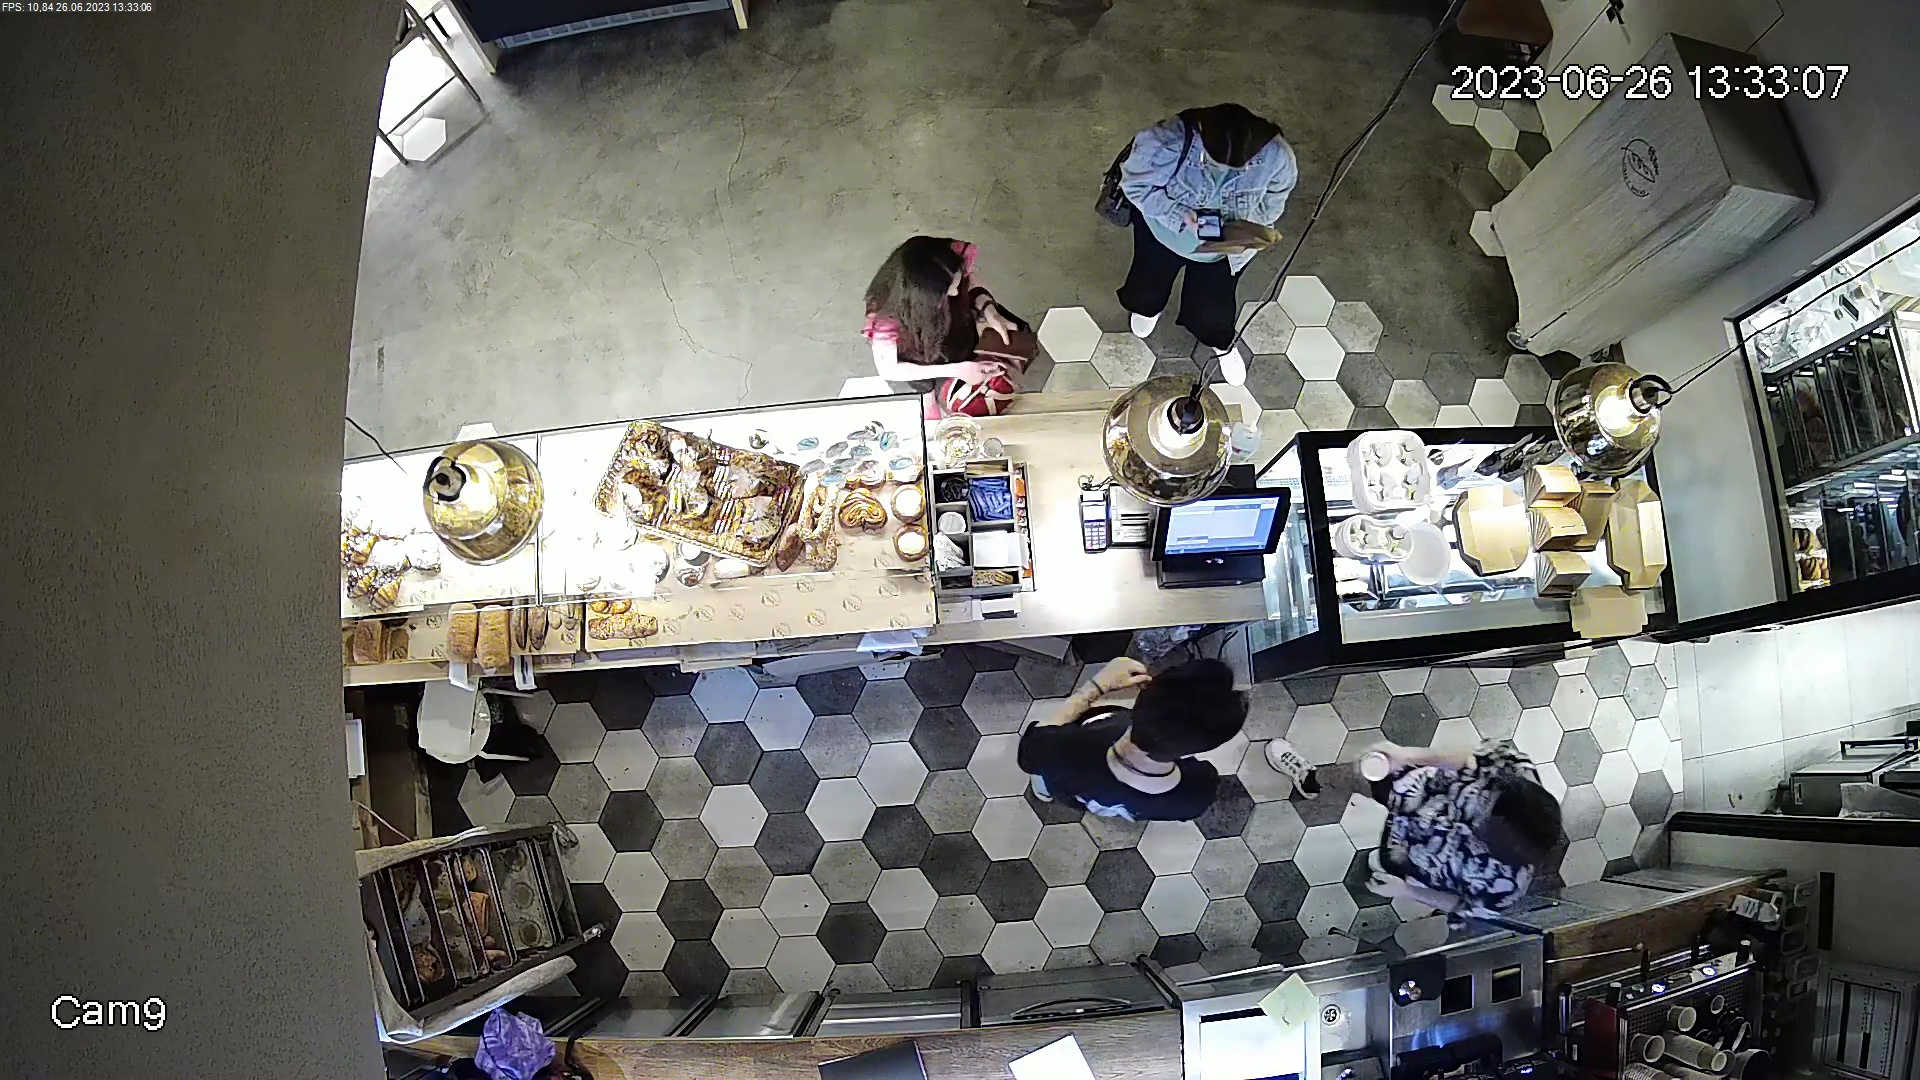coffee: (1357, 746, 1391, 782)
